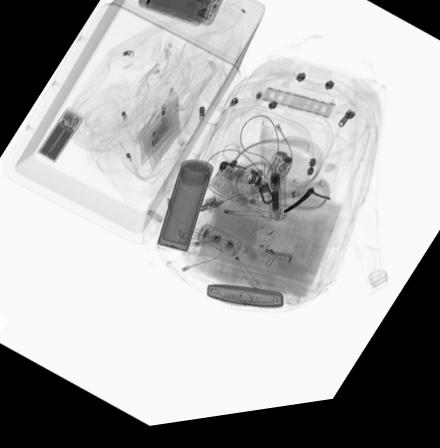Powerbank: (35, 109, 83, 162)
